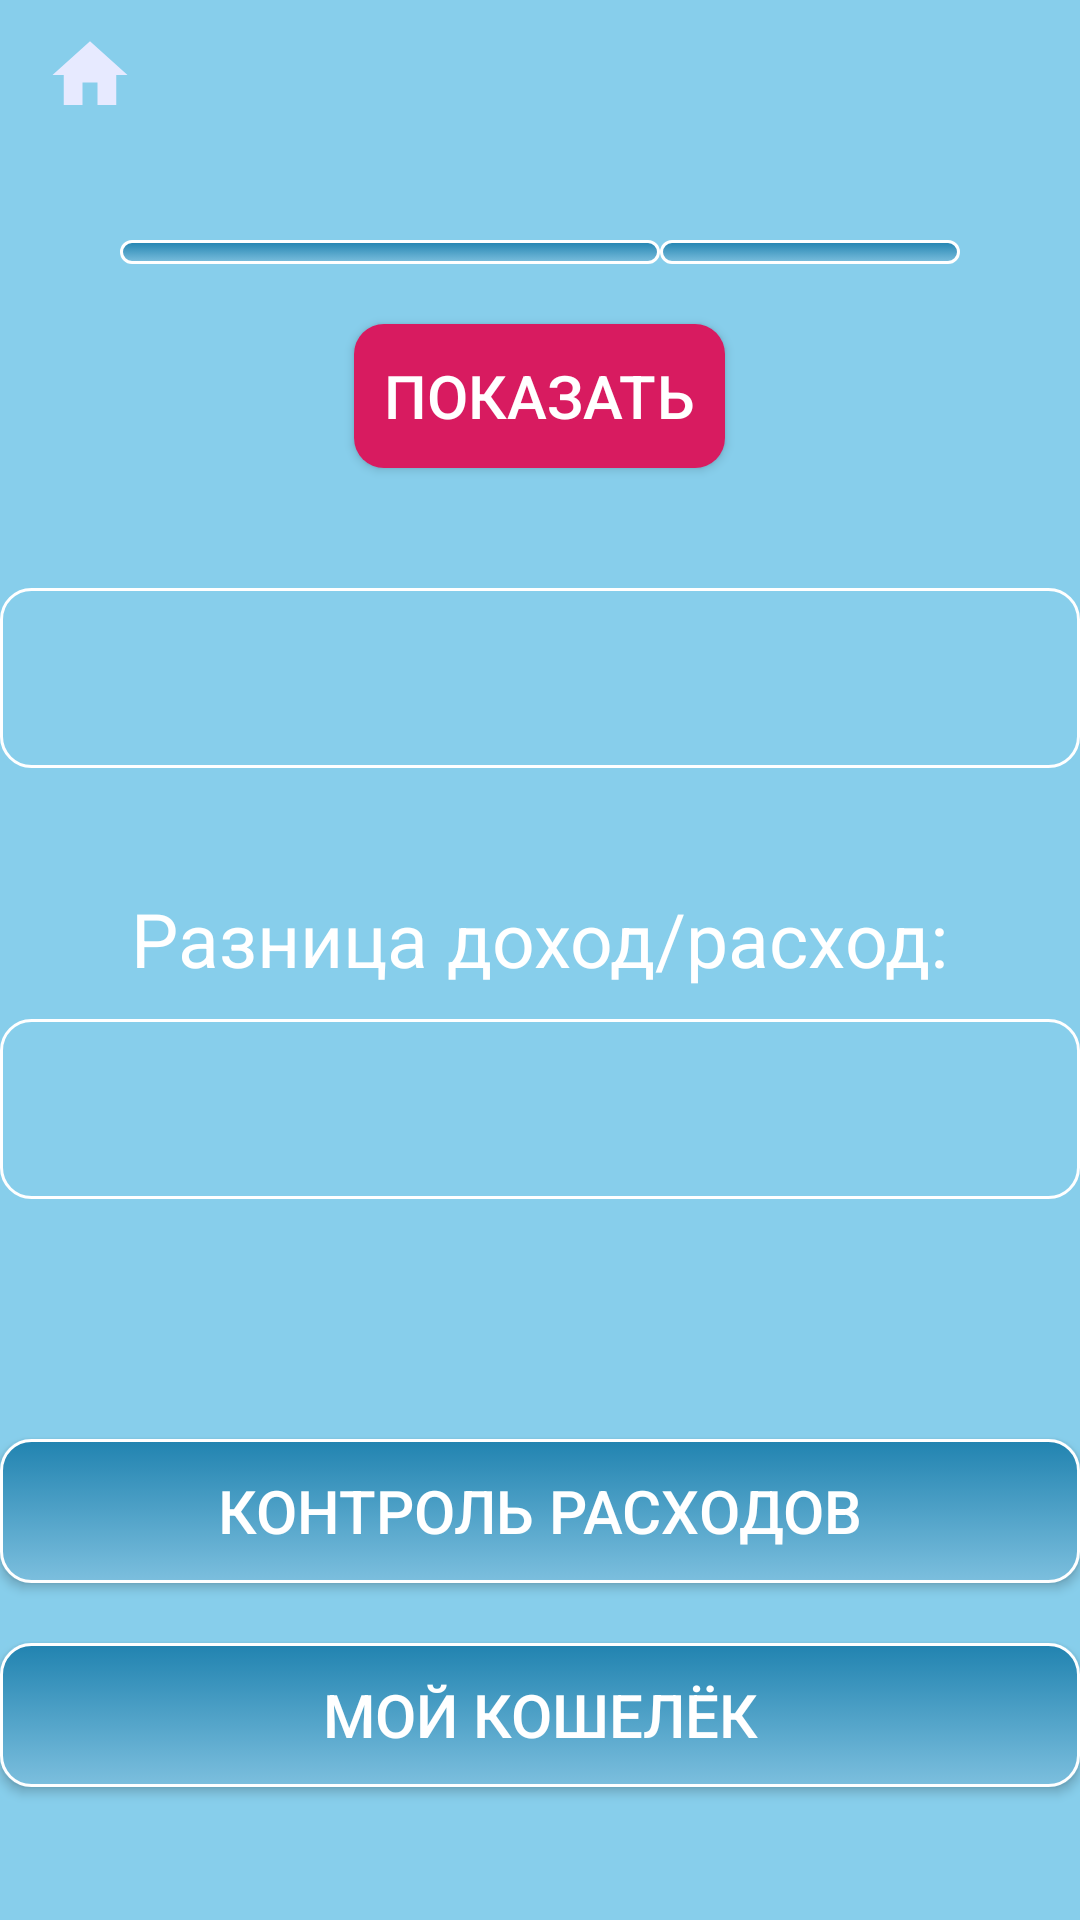

Icon click points for this 1080 × 1920 phone screenshot, format (x,y):
home: (90,73)
